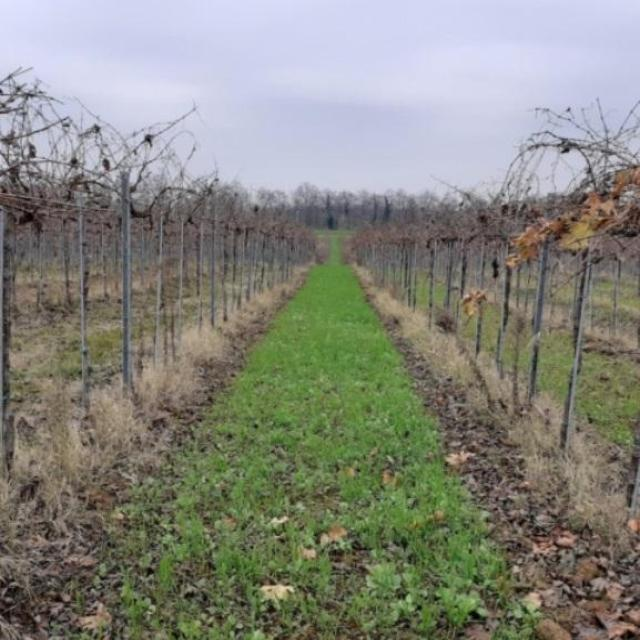row: (5, 231, 615, 639)
